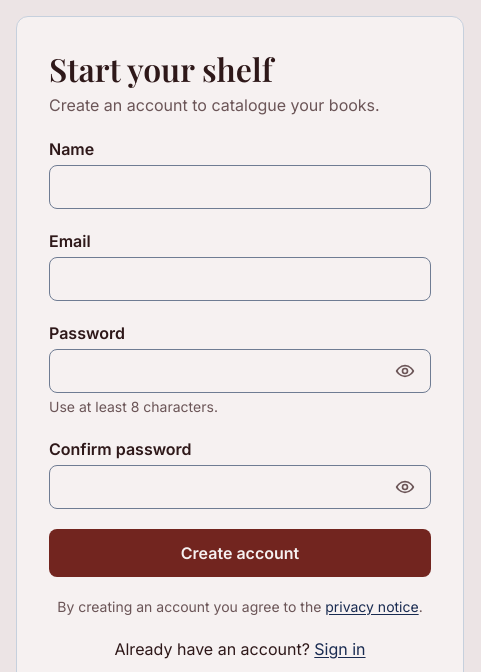
RegisterForm › puts the server's complaint about the password under the password field
This screenshot has width=481, height=672.
Type "Alice" into the field labelled "Name" at point(240, 187), box [49,165,431,209]
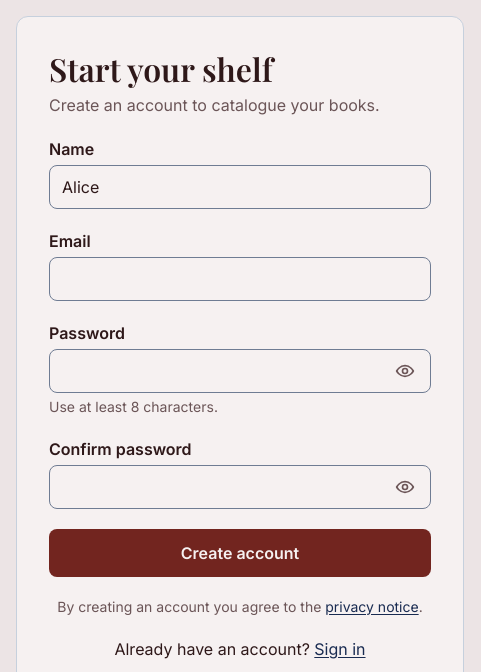
Type "alice@example.com" into the field labelled "Email" at point(240, 279), box [49,257,431,301]
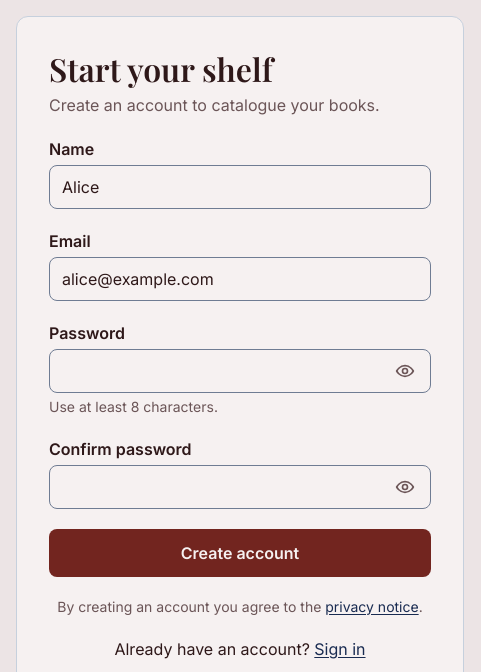
Type "secret123" into the password field labelled "Password" at point(240, 371), box [49,349,431,393]
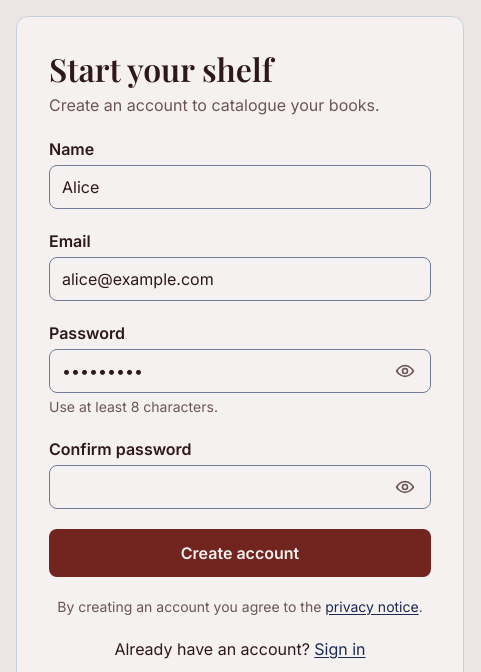
Type "secret123" into the password field labelled "Confirm password" at point(240, 487), box [49,465,431,509]
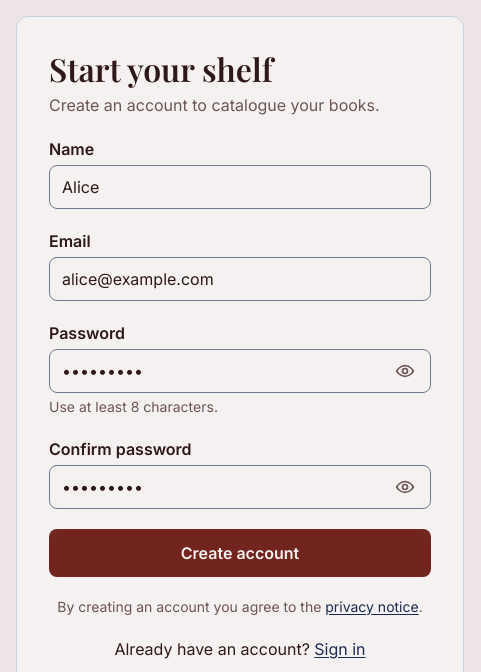
Click the button "Create account" at point(240, 553), box [49,529,431,577]
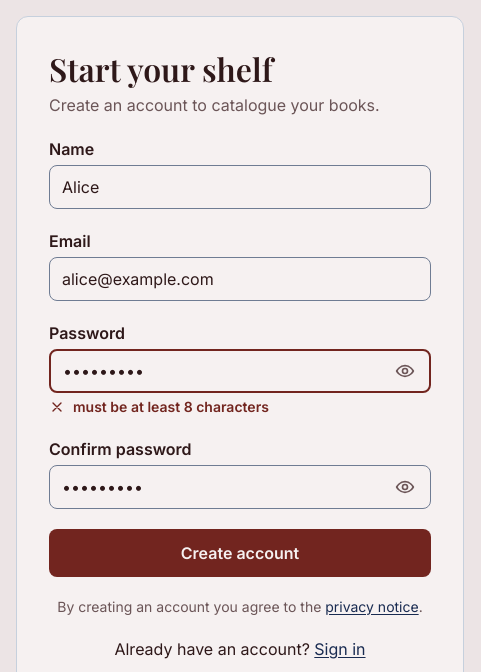
expect the text "must be at least 8 characters" is shown: met, box [73,397,269,417]
